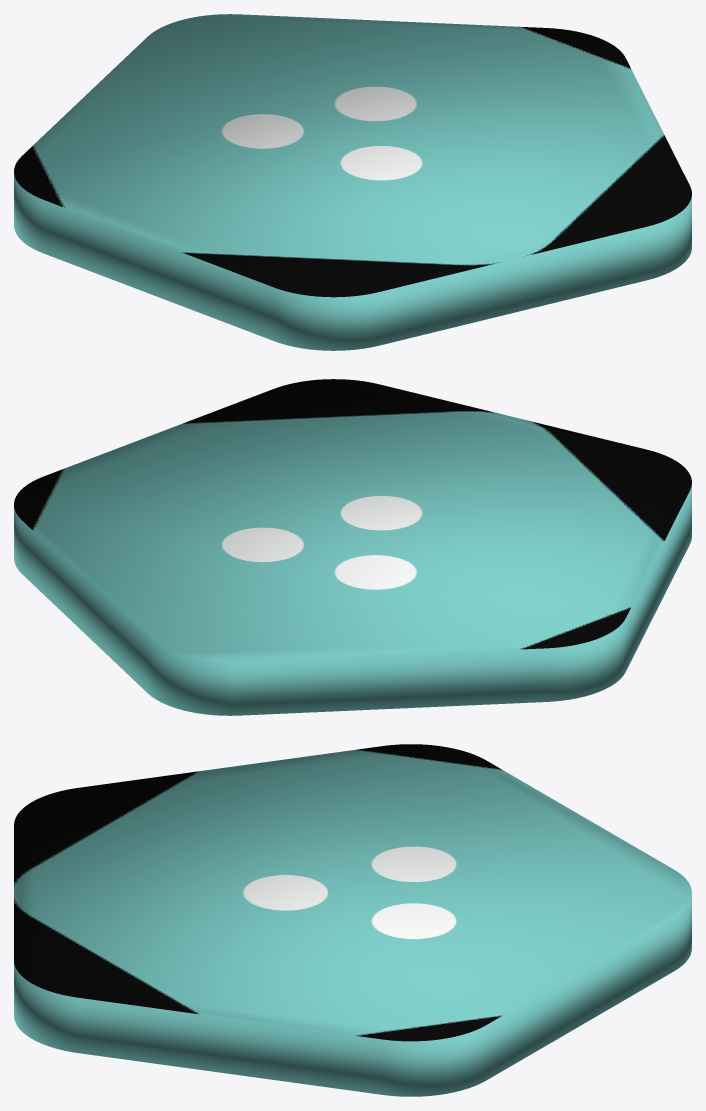
File: back_pentagon.glb
3 renders of one model, top to bottom at view 1: azimuth 30°, elevation 25°; view 2: azimuth 150°, elevation 25°; view 3: azimuth 270°, elevation 25°, orthographic. The views are drawn at different scales.
Visible parts, largest first — view 1: back_pentagon; view 2: back_pentagon; view 3: back_pentagon.
Part boxes in pixels (x1,y1,x2,y2): back_pentagon: [14, 14, 691, 350]; back_pentagon: [14, 379, 691, 715]; back_pentagon: [14, 744, 691, 1096].
Bounding box in the file's own units: 0.0276 × 0.0024 × 0.0266.
2 materials, 1 textured.
